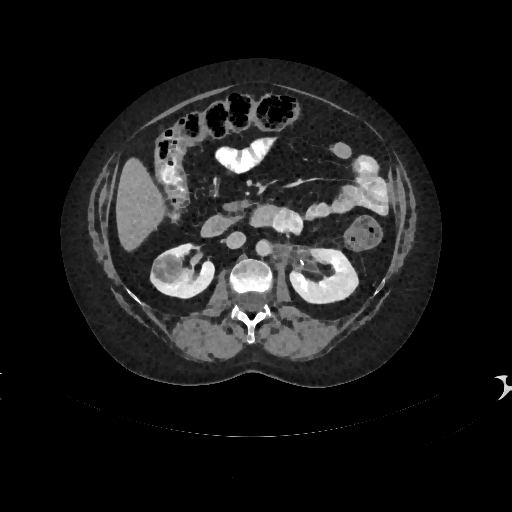Lesion: (148, 250, 184, 286)
